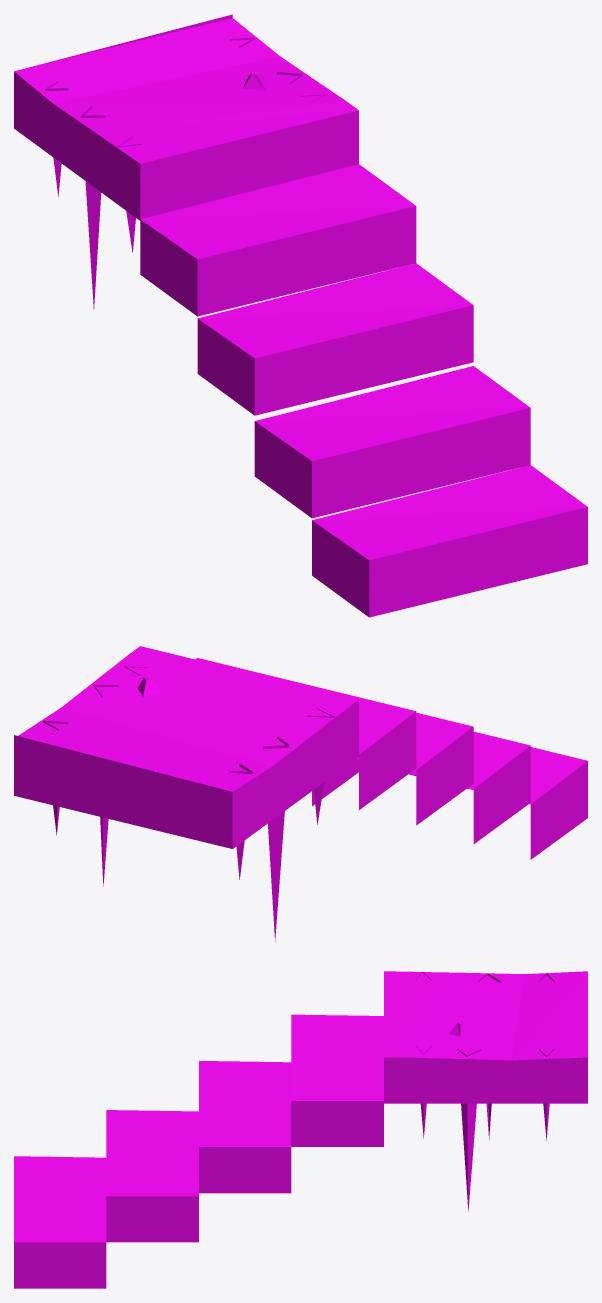
File: cave bridge stairs.obj
The picture shows the model from 3 angles, top to bottom: view 1: azimuth 30°, elevation 25°; view 2: azimuth 150°, elevation 25°; view 3: azimuth 270°, elevation 25°; orthographic projection. The views are drawn at different scales.
Visible parts, largest first — view 1: cave bridge stairs_back; view 2: cave bridge stairs_back; view 3: cave bridge stairs_back.
Boxes of the visible parts, x1,y1,x2,y2 form: cave bridge stairs_back: (14,14,587,617); cave bridge stairs_back: (14,646,587,942); cave bridge stairs_back: (14,971,587,1288).
Size of the model in its own units: 1.28 by 1.69 by 3.6.
